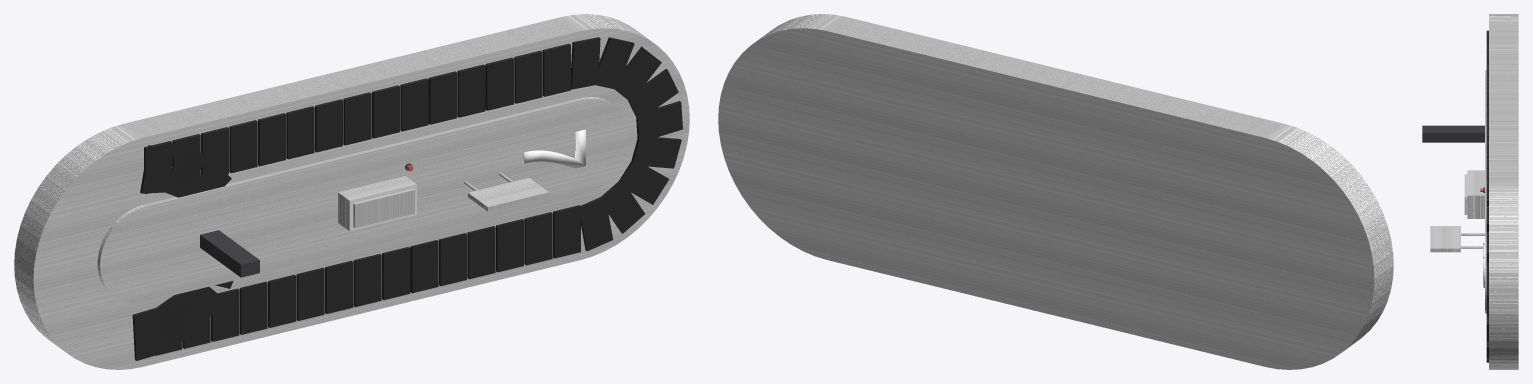
Rendered from Đảo nhận hành lý 7.glb.
The picture shows the model from 3 angles, left to right: view 1: azimuth 30°, elevation 25°; view 2: azimuth 150°, elevation 25°; view 3: azimuth 270°, elevation 25°; orthographic projection. The views are drawn at different scales.
Visible parts, largest first — view 1: conveyor_belt, frame, center_platform, service_box, information_screen_frame, number_sign_body, number_node_7; view 2: frame; view 3: frame, number_sign_body, conveyor_belt, service_box, information_screen_frame, center_platform.
Boxes of the visible parts, x1=… form: conveyor_belt: x1=132, y1=37, x2=682, y2=360; frame: x1=14, y1=14, x2=689, y2=369; center_platform: x1=97, y1=97, x2=628, y2=303; service_box: x1=338, y1=176, x2=416, y2=231; information_screen_frame: x1=464, y1=172, x2=549, y2=211; number_sign_body: x1=200, y1=230, x2=259, y2=277; number_node_7: x1=523, y1=129, x2=585, y2=168; frame: x1=718, y1=14, x2=1393, y2=369; frame: x1=1489, y1=14, x2=1518, y2=369; number_sign_body: x1=1422, y1=125, x2=1484, y2=142; conveyor_belt: x1=1486, y1=30, x2=1488, y2=362; service_box: x1=1464, y1=170, x2=1484, y2=218; information_screen_frame: x1=1430, y1=226, x2=1484, y2=252; center_platform: x1=1485, y1=70, x2=1486, y2=313.
Bounding box in the file's own units: 18 × 6 × 3.
Materials: 8 (7 with a texture image).
